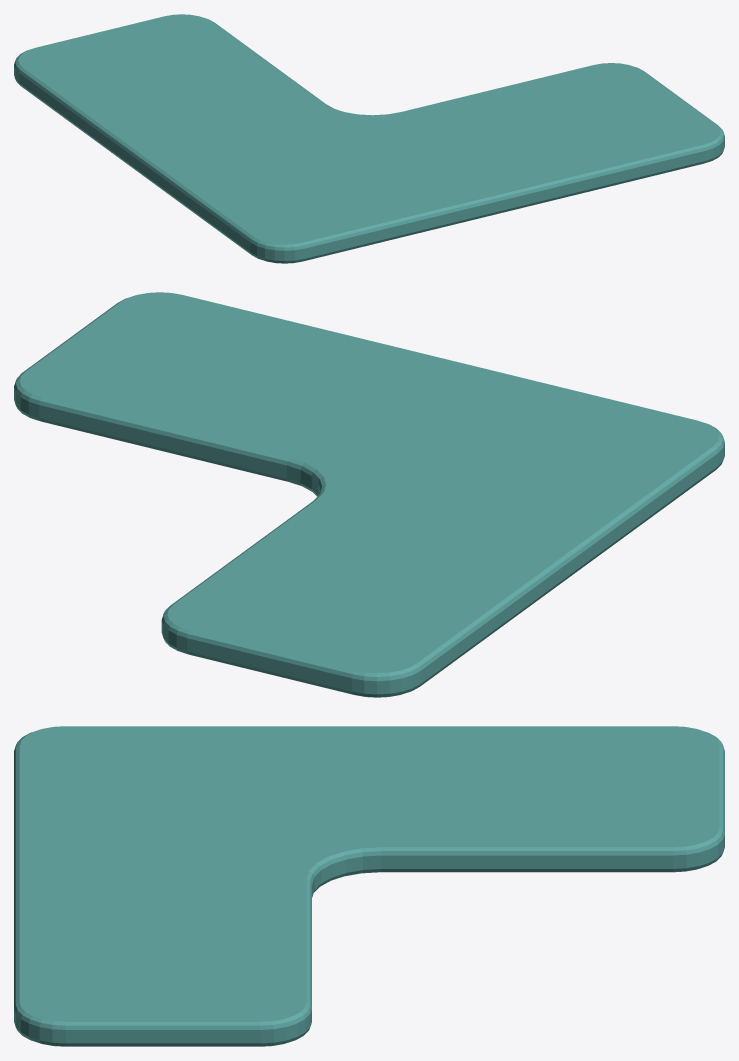
3 views of the same model, one above another, from view 1: azimuth 30°, elevation 25°; view 2: azimuth 150°, elevation 25°; view 3: azimuth 270°, elevation 25° (orthographic). The views are drawn at different scales.
Parts seen in each view (by area): view 1: ContinuousRoundedCornerMat; view 2: ContinuousRoundedCornerMat; view 3: ContinuousRoundedCornerMat.
Part boxes in pixels (left/top/right/bottom): ContinuousRoundedCornerMat: left=14, top=14, right=724, bottom=263; ContinuousRoundedCornerMat: left=14, top=292, right=724, bottom=697; ContinuousRoundedCornerMat: left=14, top=726, right=724, bottom=1046.
Size of the model in its own units: 1.24 by 0.048 by 1.24.
